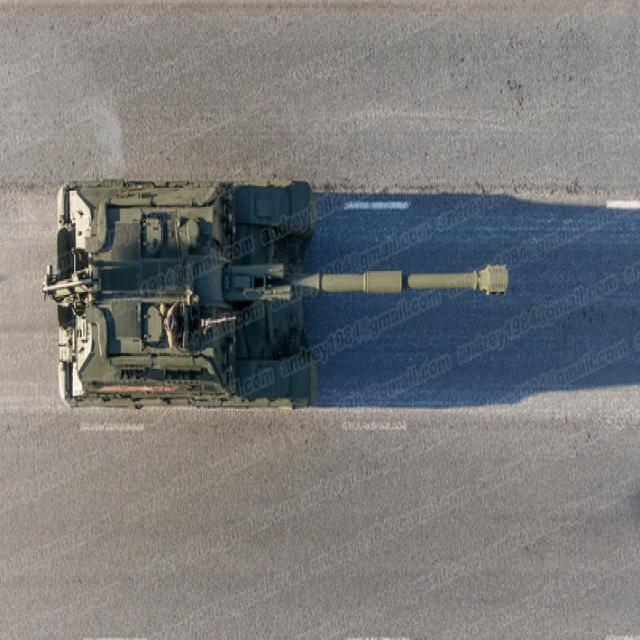tank: (42, 180, 511, 412)
